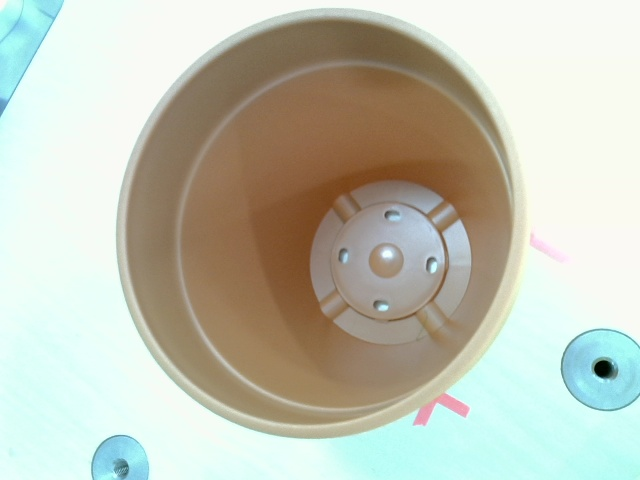화분: (114, 5, 524, 442)
